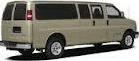back_view: (1, 15, 33, 48)
backlight: (26, 9, 37, 25)
side_glass: (76, 2, 107, 20)
